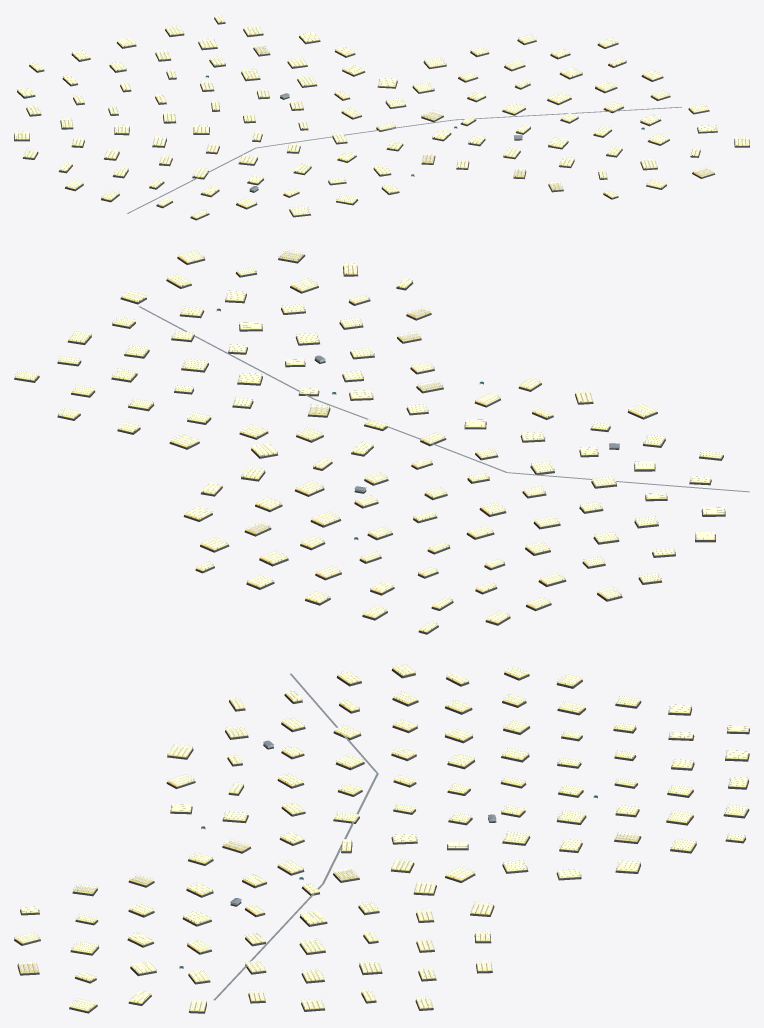
Rendered from agri_w1_da_thien_valley_T_E01_N02.glb.
The picture shows the model from 3 angles, top to bottom: view 1: azimuth 30°, elevation 25°; view 2: azimuth 150°, elevation 25°; view 3: azimuth 270°, elevation 25°; orthographic projection. The views are drawn at different scales.
Visible parts, largest first — view 1: Greenhouse_PE_Film_Shell_Blend, Night_GrowLight_2700K_Core, Taluy_SplitStone_Foundation, Terrace_Basalt_Soil_And_Lanes, Galvanized_Steel_Arches_And_Gutters, Interior_Chrysanthemum_Flower_Beds, Farm_Concrete_Lane; view 2: Greenhouse_PE_Film_Shell_Blend, Night_GrowLight_2700K_Core, Taluy_SplitStone_Foundation, Galvanized_Steel_Arches_And_Gutters, Interior_Chrysanthemum_Flower_Beds, Terrace_Basalt_Soil_And_Lanes, Farm_Concrete_Lane; view 3: Greenhouse_PE_Film_Shell_Blend, Night_GrowLight_2700K_Core, Taluy_SplitStone_Foundation, Galvanized_Steel_Arches_And_Gutters, Terrace_Basalt_Soil_And_Lanes, Interior_Chrysanthemum_Flower_Beds, Farm_Concrete_Lane.
Boxes of the visible parts, left/top/right/bottom form: Greenhouse_PE_Film_Shell_Blend: left=14, top=14, right=749, bottom=218; Night_GrowLight_2700K_Core: left=15, top=15, right=748, bottom=217; Taluy_SplitStone_Foundation: left=14, top=18, right=749, bottom=220; Terrace_Basalt_Soil_And_Lanes: left=14, top=17, right=749, bottom=218; Galvanized_Steel_Arches_And_Gutters: left=14, top=15, right=749, bottom=217; Interior_Chrysanthemum_Flower_Beds: left=20, top=18, right=745, bottom=218; Farm_Concrete_Lane: left=127, top=106, right=681, bottom=213; Greenhouse_PE_Film_Shell_Blend: left=14, top=249, right=724, bottom=632; Night_GrowLight_2700K_Core: left=16, top=251, right=723, bottom=631; Taluy_SplitStone_Foundation: left=14, top=255, right=725, bottom=634; Galvanized_Steel_Arches_And_Gutters: left=15, top=249, right=725, bottom=631; Interior_Chrysanthemum_Flower_Beds: left=16, top=252, right=723, bottom=631; Terrace_Basalt_Soil_And_Lanes: left=14, top=252, right=725, bottom=632; Farm_Concrete_Lane: left=138, top=306, right=749, bottom=492; Greenhouse_PE_Film_Shell_Blend: left=15, top=663, right=749, bottom=1011; Night_GrowLight_2700K_Core: left=16, top=664, right=747, bottom=1010; Taluy_SplitStone_Foundation: left=14, top=669, right=749, bottom=1013; Galvanized_Steel_Arches_And_Gutters: left=14, top=663, right=748, bottom=1010; Terrace_Basalt_Soil_And_Lanes: left=15, top=668, right=749, bottom=1011; Interior_Chrysanthemum_Flower_Beds: left=16, top=669, right=748, bottom=1010; Farm_Concrete_Lane: left=213, top=673, right=378, bottom=1000.
Bounding box in the file's own units: 1518 × 26 × 1350.
Materials: 9 (2 with a texture image).
